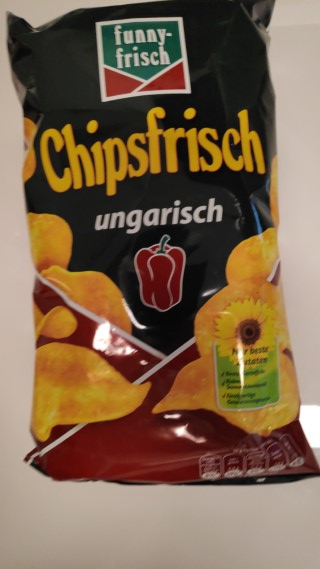chipsfrisch: (4, 1, 320, 487)
